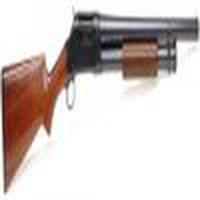gun: (2, 10, 200, 189)
